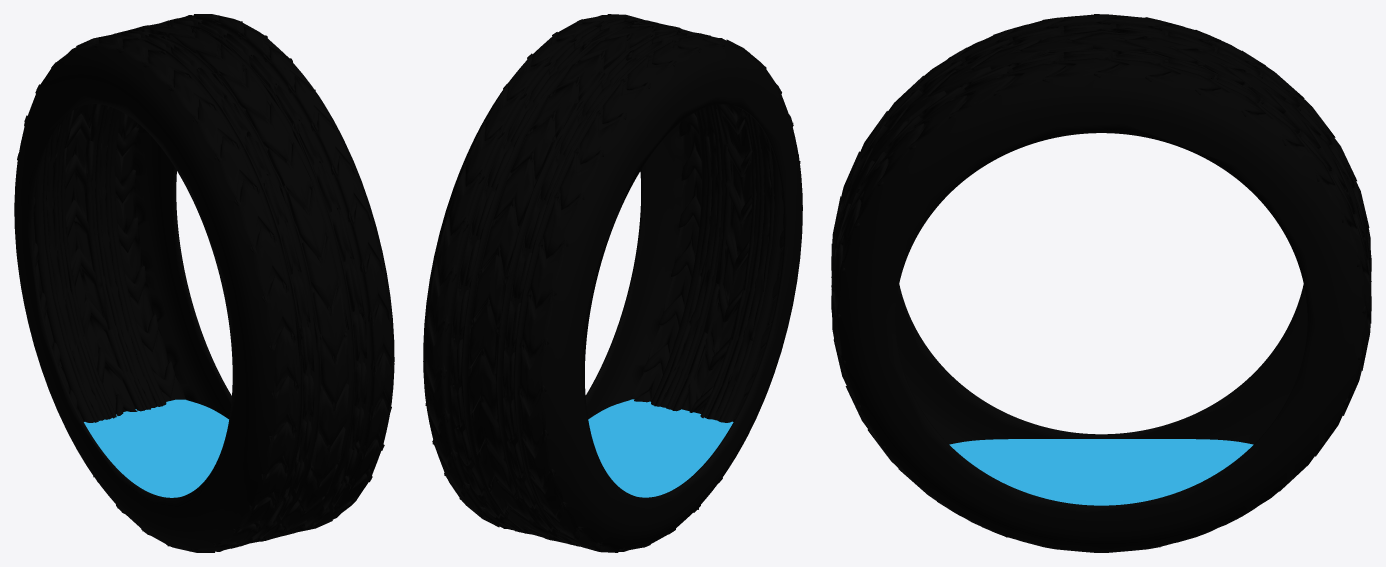
Rendered from Wheel 1.fbx.
3 views of the same model, side by side, from view 1: azimuth 30°, elevation 25°; view 2: azimuth 150°, elevation 25°; view 3: azimuth 270°, elevation 25° (orthographic). The views are drawn at different scales.
Parts seen in each view (by area): view 1: Circle, Water; view 2: Circle, Water; view 3: Circle, Water.
Part boxes in pixels (<box>): Circle: <box>14,14,394,552</box>; Water: <box>84,399,228,497</box>; Circle: <box>423,14,802,552</box>; Water: <box>588,399,733,497</box>; Circle: <box>831,14,1371,552</box>; Water: <box>949,439,1253,505</box>.
Size of the model in its own units: 63.39 by 200 by 200.
